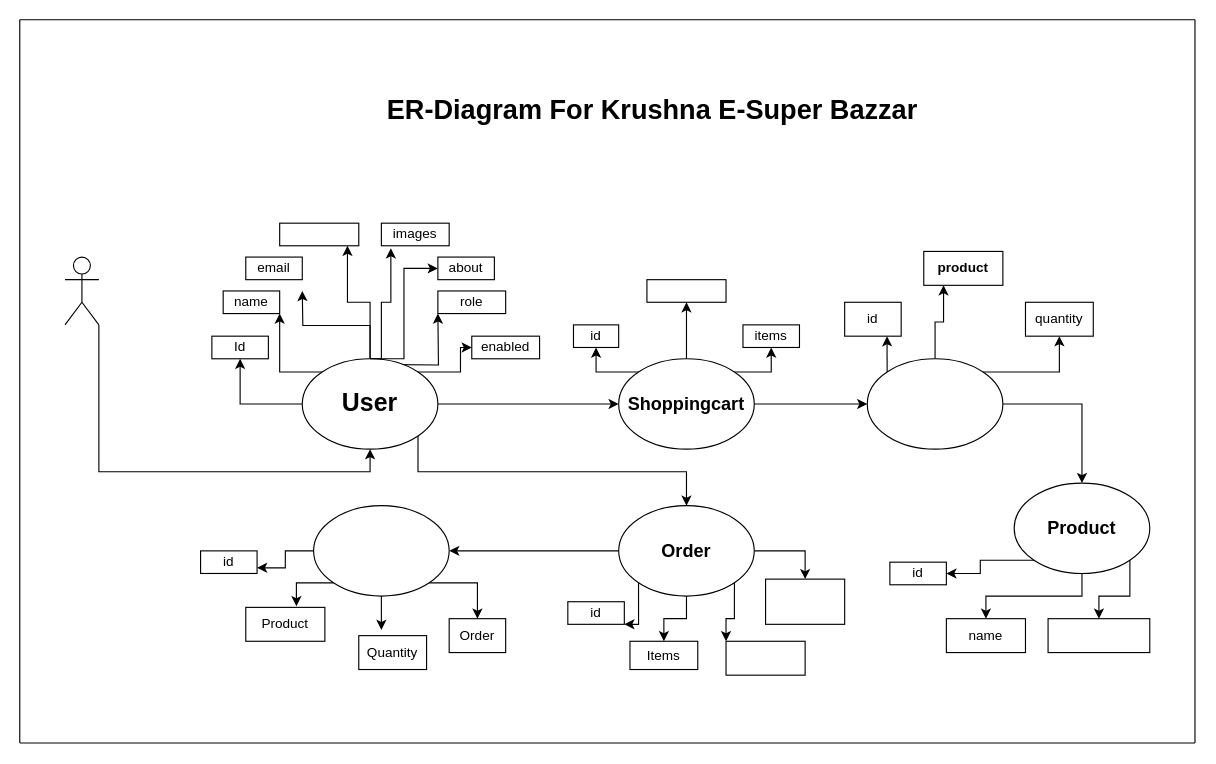
Image size: 1216x764. Some labels were removed from this diagram. Each missing label, with the box of its shape:
Actor: (64, 256, 99, 325)
cartitem: (866, 358, 1003, 449)
OrderItem: (312, 505, 449, 596)
password: (279, 222, 359, 246)
Payment Method: (764, 578, 845, 624)
price: (1047, 618, 1150, 653)
Total Amount: (725, 640, 805, 675)
totalprice: (646, 279, 726, 302)
